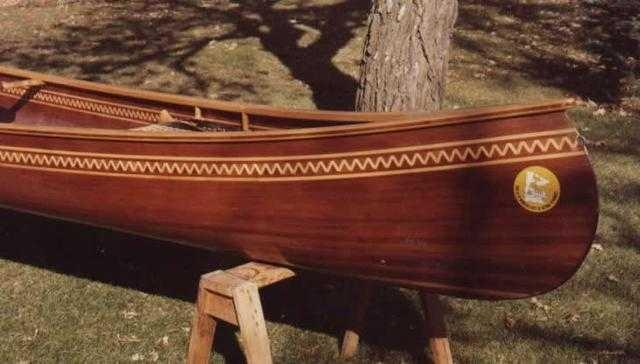kayak: (1, 70, 606, 309)
